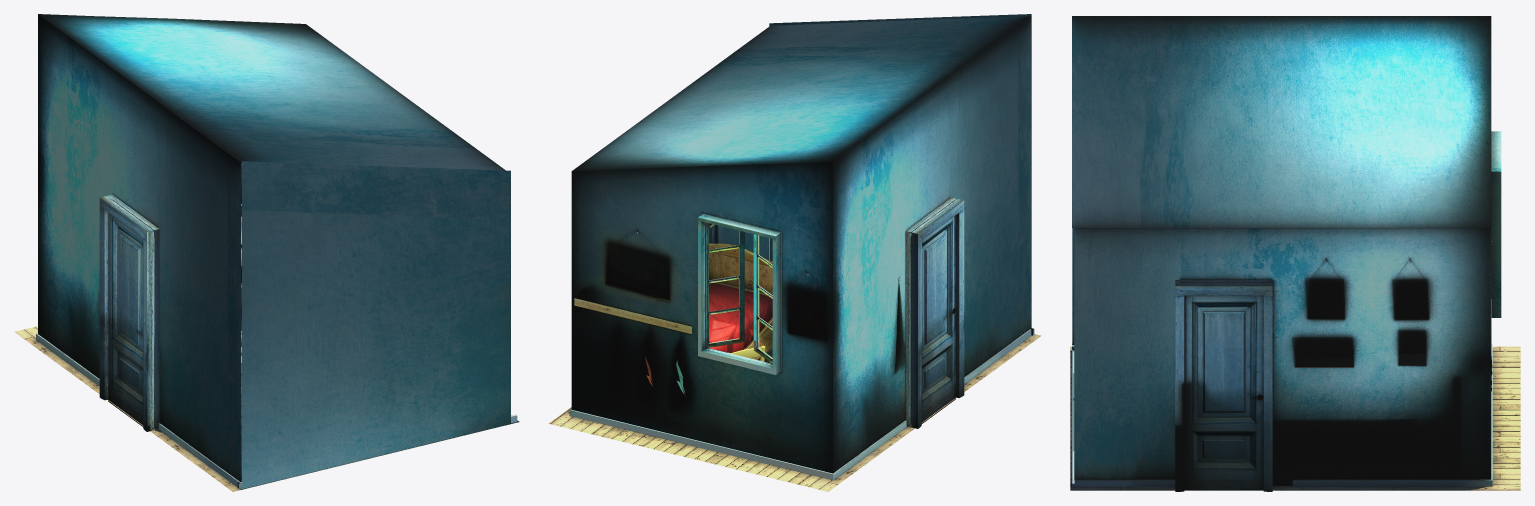
File: VanGoghRoom.obj
The picture shows the model from 3 angles, left to right: view 1: azimuth 30°, elevation 25°; view 2: azimuth 150°, elevation 25°; view 3: azimuth 270°, elevation 25°; orthographic projection. The views are drawn at different scales.
Parts seen in each view (by area): view 1: pPlane1, Enter_a_title:walls, Enter_a_title:rest polySurface7, polySurface3 Enter_a_title:Doors polySurface4 group2, polySurface3 Enter_a_title:Doors group2 polySurface5, Enter_a_title:FLOOR, polySurface5 group1 polySurface3 Enter_a_title:Doors, Enter_a_title:rest polySurface6; view 2: Enter_a_title:walls, Enter_a_title:rest polySurface7, polySurface3 Enter_a_title:Doors polySurface4 group2, Enter_a_title:FLOOR, polySurface3 Enter_a_title:Doors group2 polySurface5, Enter_a_title:bad_for, Enter_a_title:bad, Enter_a_title:win_anim, polySurface5 group1 polySurface3 Enter_a_title:Doors, Enter_a_title:veshalka, pPlane1, Enter_a_title:win_still (+1 smaller); view 3: Enter_a_title:rest polySurface7, Enter_a_title:walls, polySurface1, Enter_a_title:FLOOR.
Part boxes in pixels (x1,y1,x2,y2): pPlane1: [242, 161, 510, 489]; Enter_a_title:walls: [38, 14, 241, 482]; Enter_a_title:rest polySurface7: [36, 14, 505, 385]; polySurface3 Enter_a_title:Doors polySurface4 group2: [108, 213, 143, 426]; polySurface3 Enter_a_title:Doors group2 polySurface5: [99, 196, 153, 431]; Enter_a_title:FLOOR: [14, 310, 519, 491]; polySurface5 group1 polySurface3 Enter_a_title:Doors: [107, 194, 159, 429]; Enter_a_title:rest polySurface6: [158, 423, 241, 486]; Enter_a_title:walls: [571, 16, 1031, 473]; Enter_a_title:rest polySurface7: [569, 16, 1031, 480]; polySurface3 Enter_a_title:Doors polySurface4 group2: [921, 215, 955, 423]; Enter_a_title:FLOOR: [548, 334, 1041, 491]; polySurface3 Enter_a_title:Doors group2 polySurface5: [911, 198, 964, 428]; Enter_a_title:bad_for: [708, 280, 772, 353]; Enter_a_title:bad: [709, 243, 772, 359]; Enter_a_title:win_anim: [705, 222, 744, 347]; polySurface5 group1 polySurface3 Enter_a_title:Doors: [905, 197, 956, 427]; Enter_a_title:veshalka: [574, 224, 714, 396]; pPlane1: [769, 14, 1031, 327]; Enter_a_title:win_still: [753, 234, 772, 363]; Enter_a_title:rest polySurface7: [1072, 16, 1492, 486]; Enter_a_title:walls: [1072, 131, 1501, 485]; polySurface1: [1175, 282, 1272, 491]; Enter_a_title:FLOOR: [1070, 346, 1520, 490].
Bounding box in the file's own units: 3.62 × 3.88 × 4.67.
Materials: 12 (12 with a texture image).
